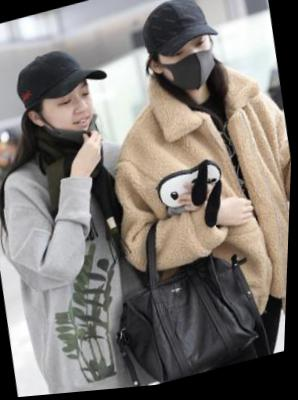OK: (160, 37, 222, 101)
WRONG: (44, 83, 101, 148)
